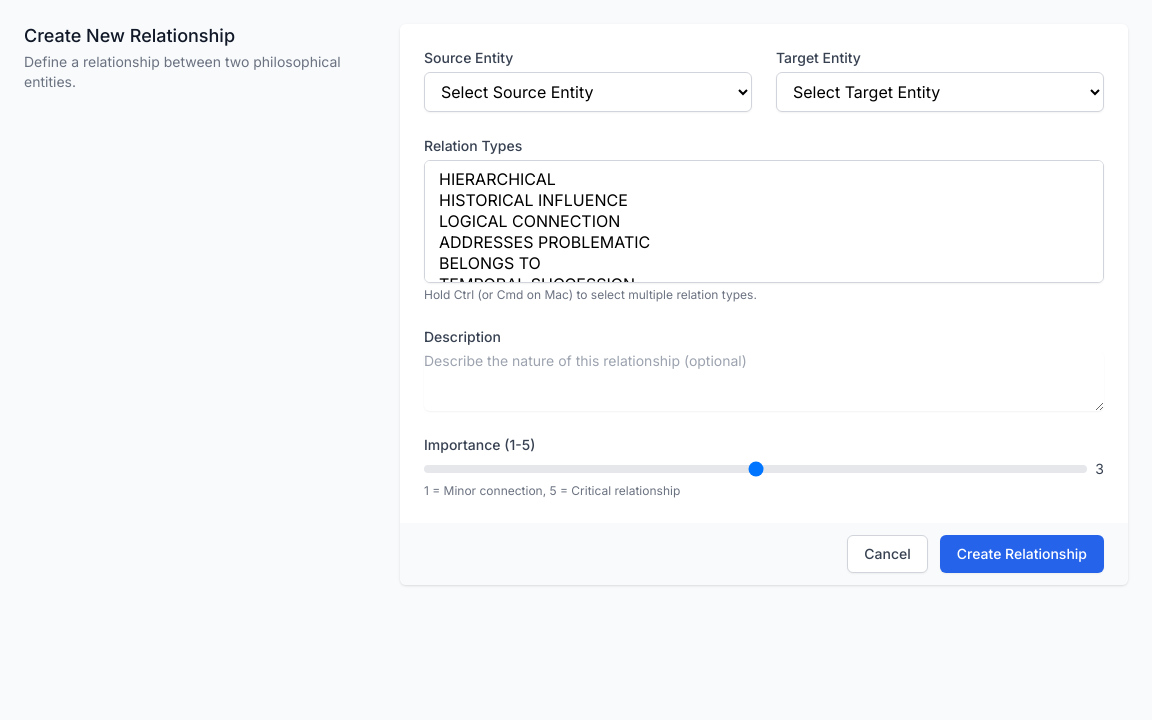
Test: RelationshipForm Component › Form Validation › validates that at least one relation type must be selected
Expected: the form named "Create Relationship Form" is shown, [400, 24, 1128, 585]
Note: Fill source and target but not relation types
Select "Immanuel Kant (Philosopher)" in the dropdown with test id "source-entity-select": [588, 92] box [424, 72, 752, 112]
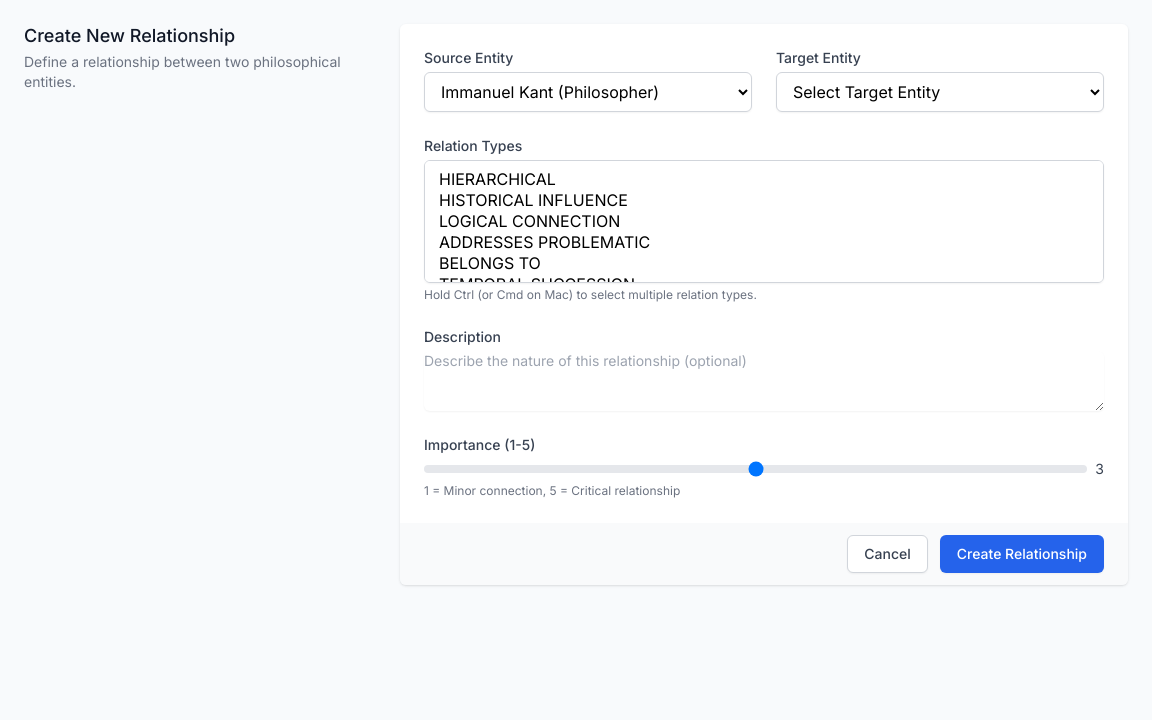
Select "Categorical Imperative (PhilosophicalConcept)" in the dropdown with test id "target-entity-select": [940, 92] box [776, 72, 1104, 112]
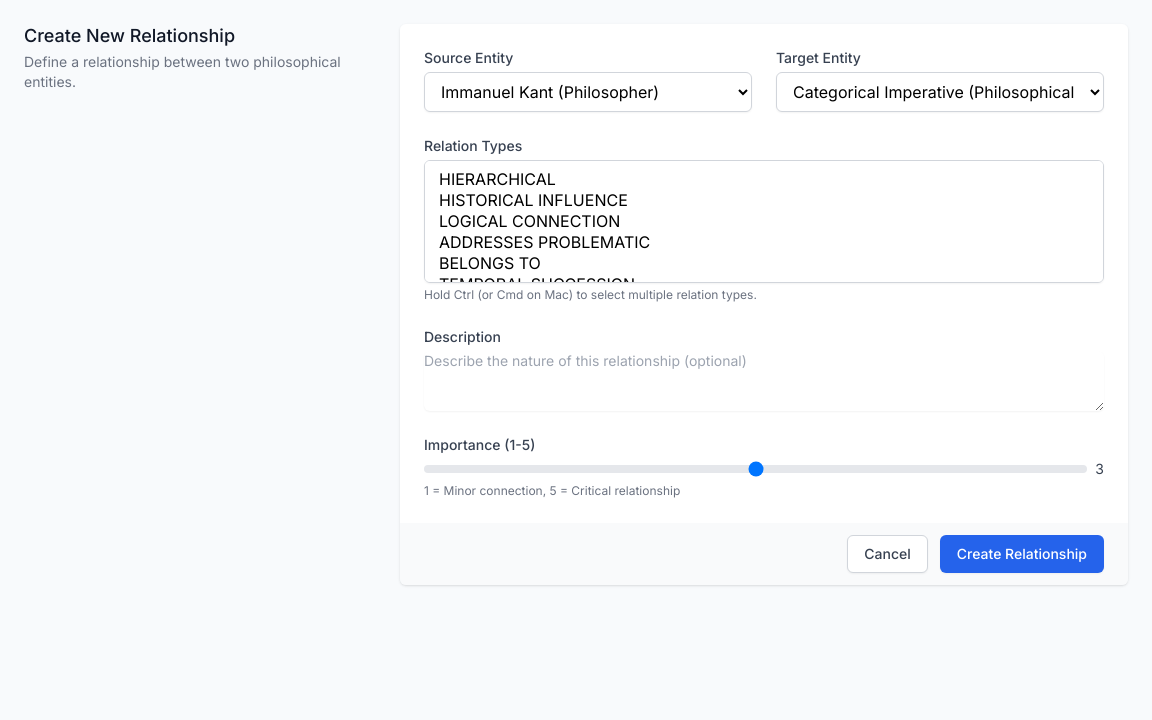
Note: Submit form
Click the button "Create Relationship": [1022, 554] box [940, 535, 1104, 573]
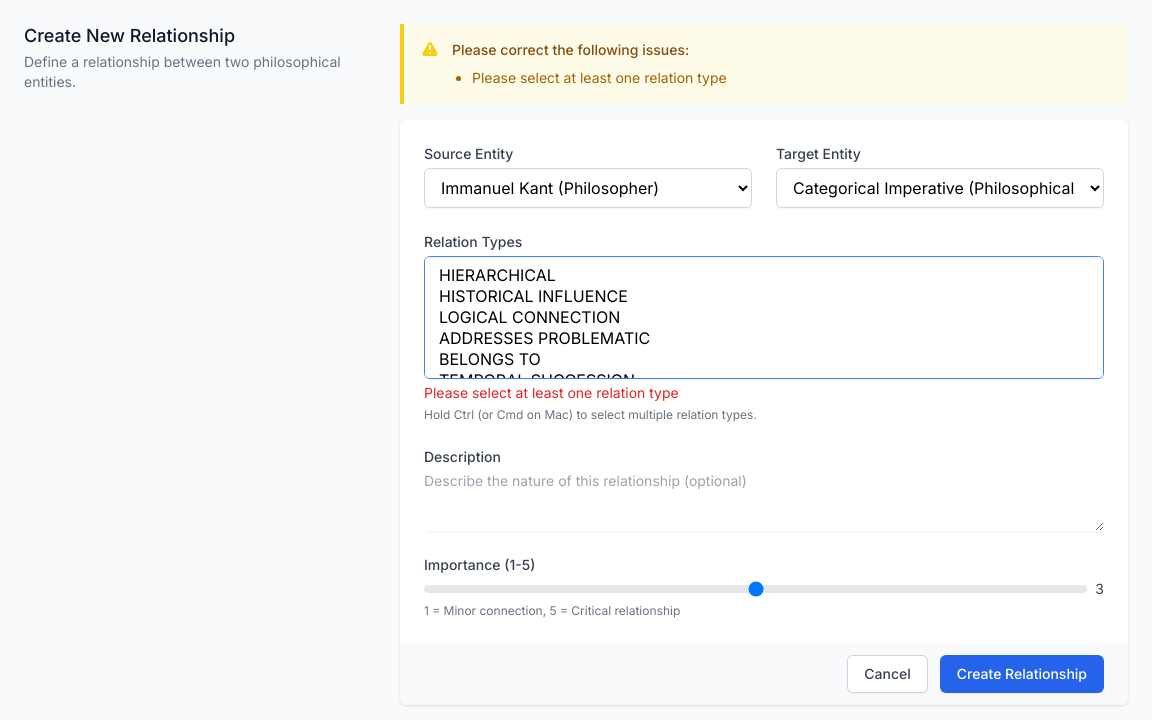
Now the message with test id "validation-errors" shows "Please select at least one relation type", box [472, 69, 727, 86]
